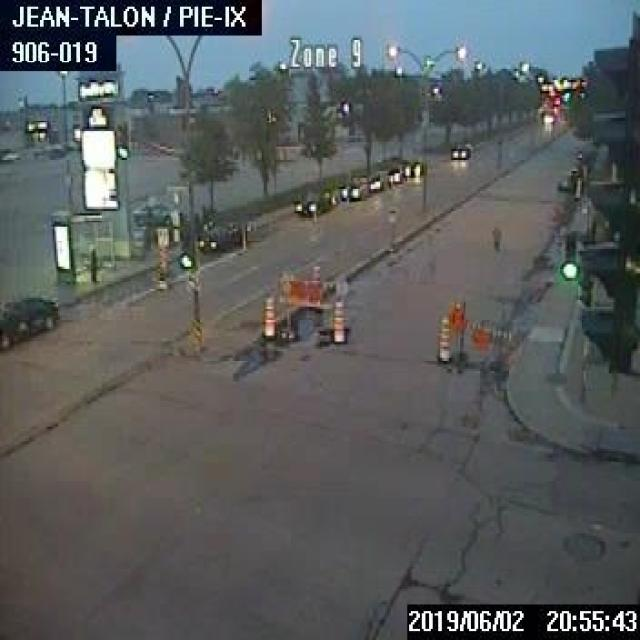construction: (276, 266, 334, 346), (448, 301, 512, 371), (432, 314, 452, 362), (328, 298, 346, 343), (260, 294, 275, 337)
pedestrian: (491, 224, 499, 252)
vehicle: (0, 293, 56, 351), (195, 222, 246, 251), (291, 184, 336, 216), (132, 199, 184, 224), (339, 174, 368, 197), (367, 170, 390, 190), (402, 158, 426, 176), (449, 140, 473, 158), (387, 164, 406, 181)
